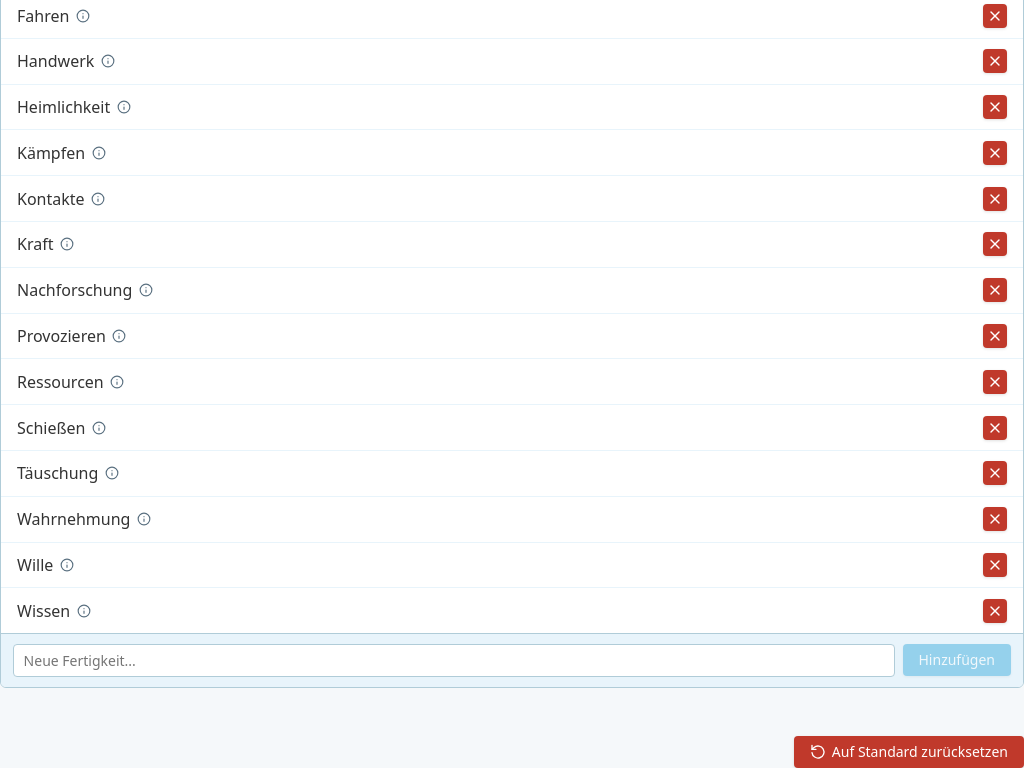
Test: SkillsView › "Auf Standard zurücksetzen" button › clicking the button shows the confirm dialog
(page scrolled)
Click the text "Auf Standard zurücksetzen" at (920, 752), box [832,745,1008,759]
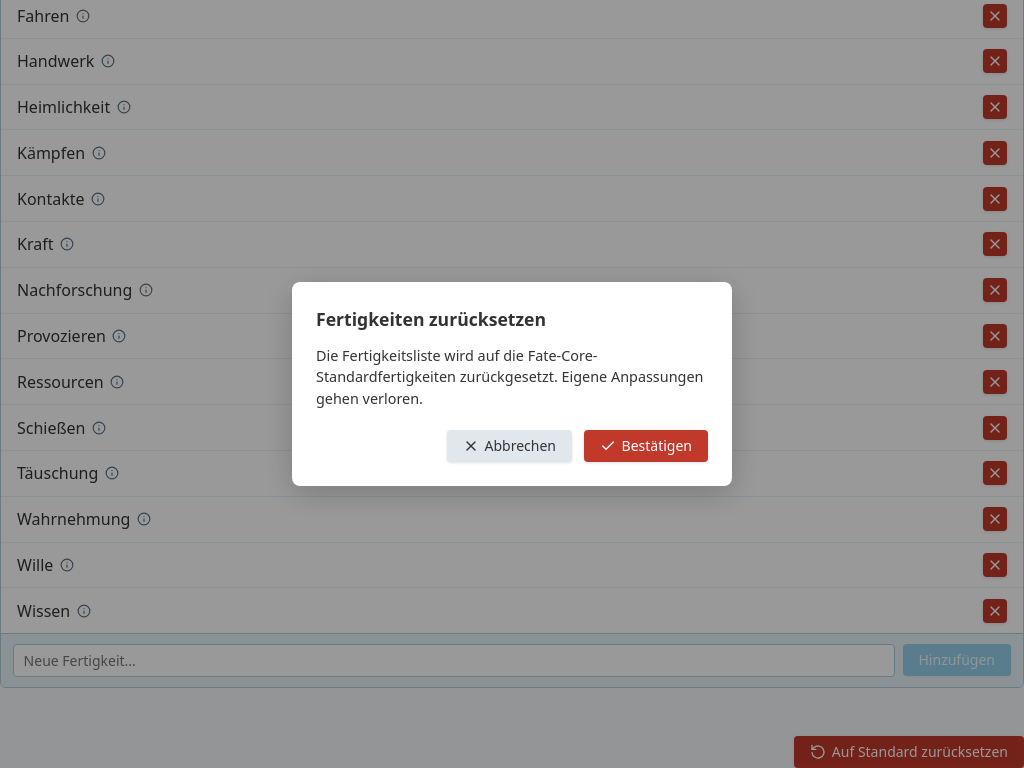
Expected: the text "Fertigkeiten zurücksetzen" is shown, [316,307,546,331]
